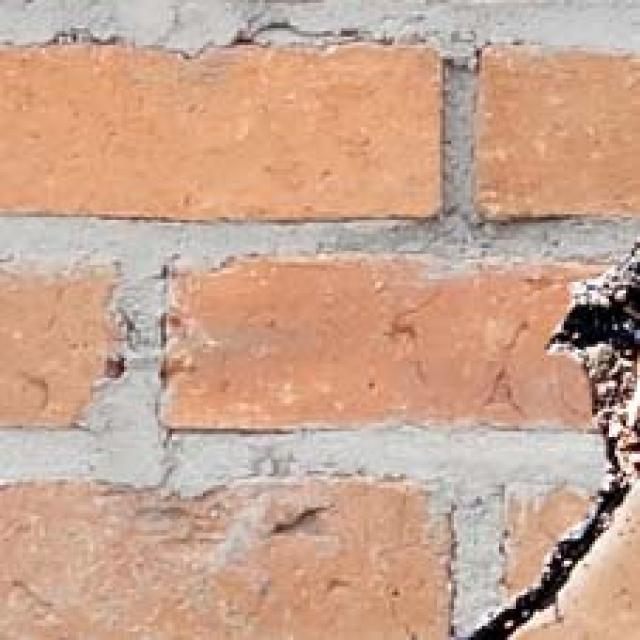Crack: (431, 222, 640, 639)
